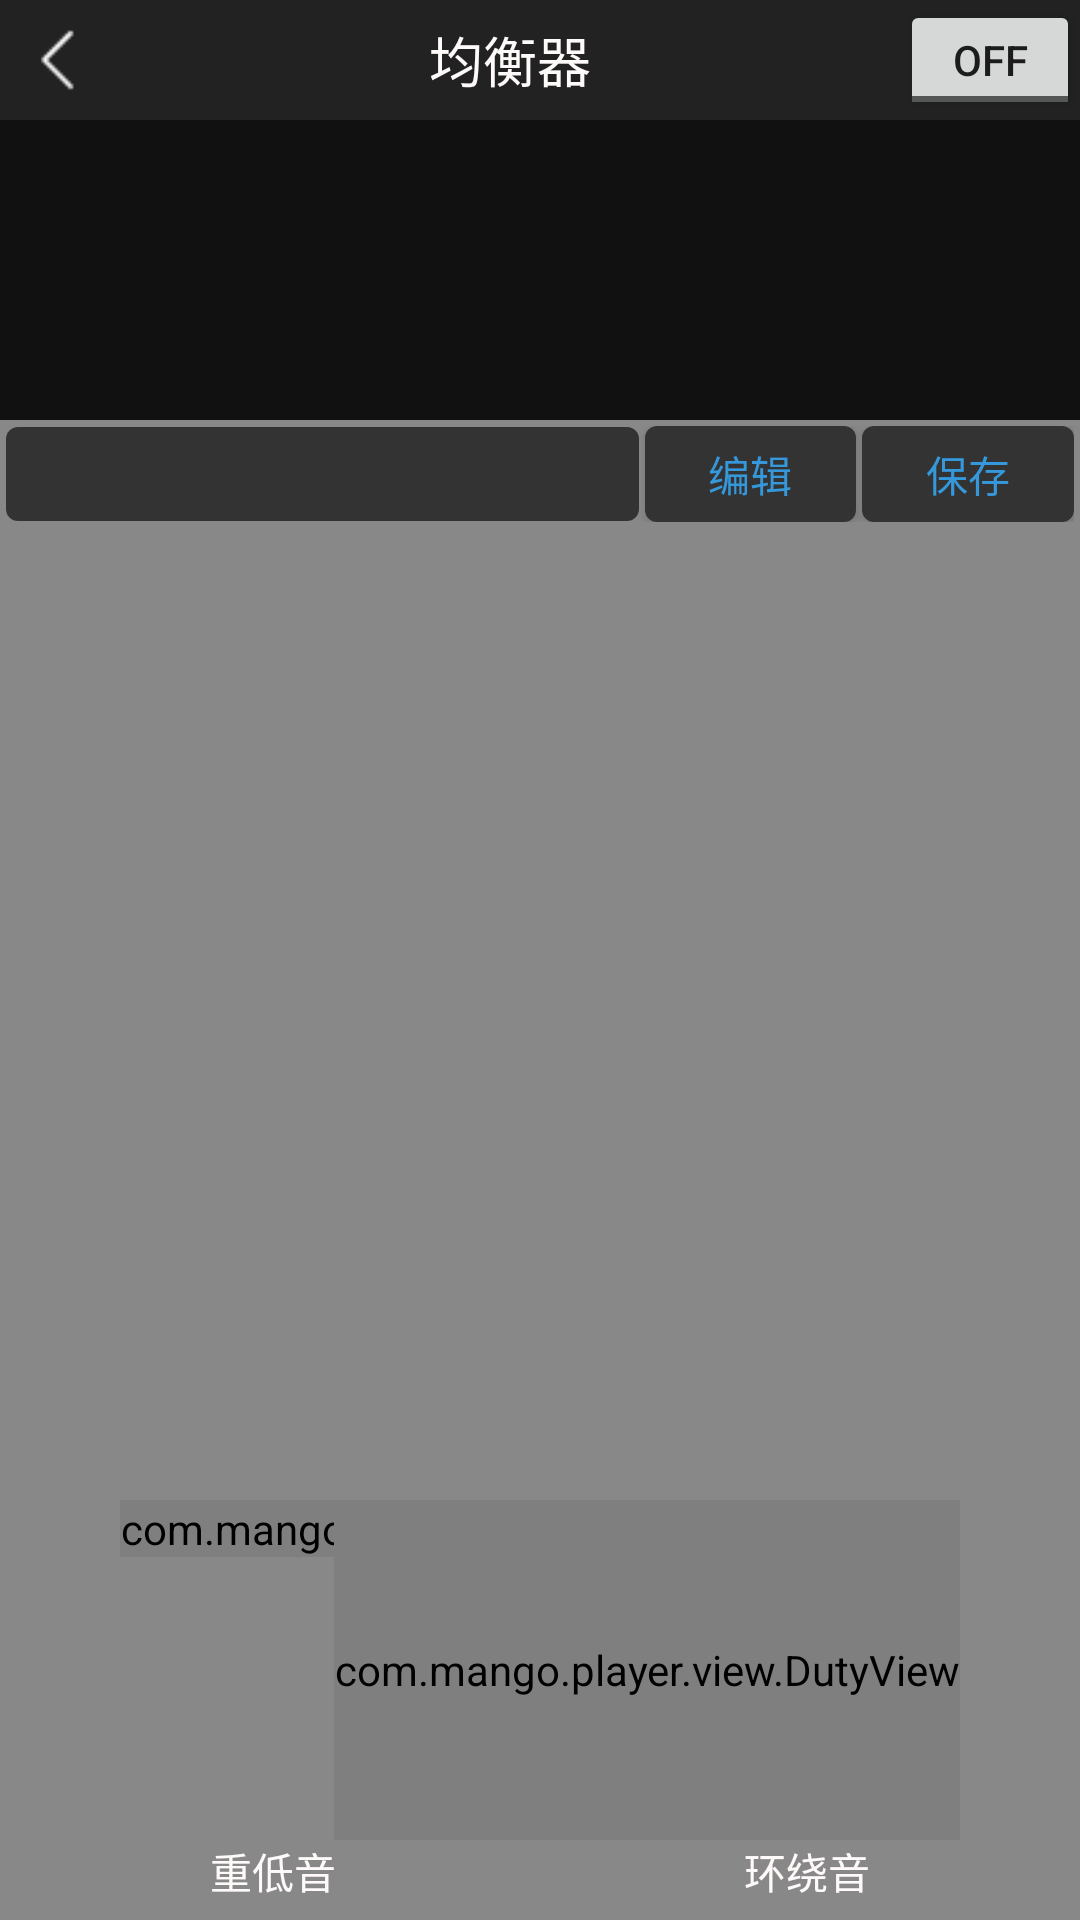

Locate icon controls on the screen. Image size 1080px x 1920px, boxes as rect(x1, y1, x2, y2).
back: rect(41, 30, 74, 90)
